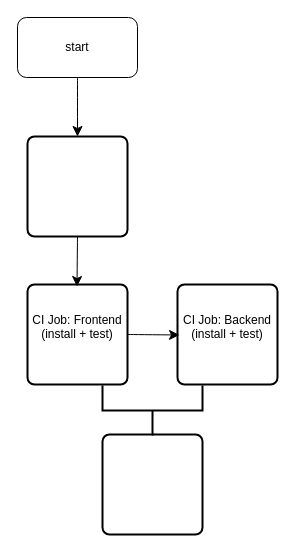
This 296x553 diagram has some shape labels left out. The box of each missing label's shape, as (x1, y1, x2, y2) in pixels:
Developer pushes code: (26, 135, 128, 237)
Slack Notification: (101, 433, 203, 535)
